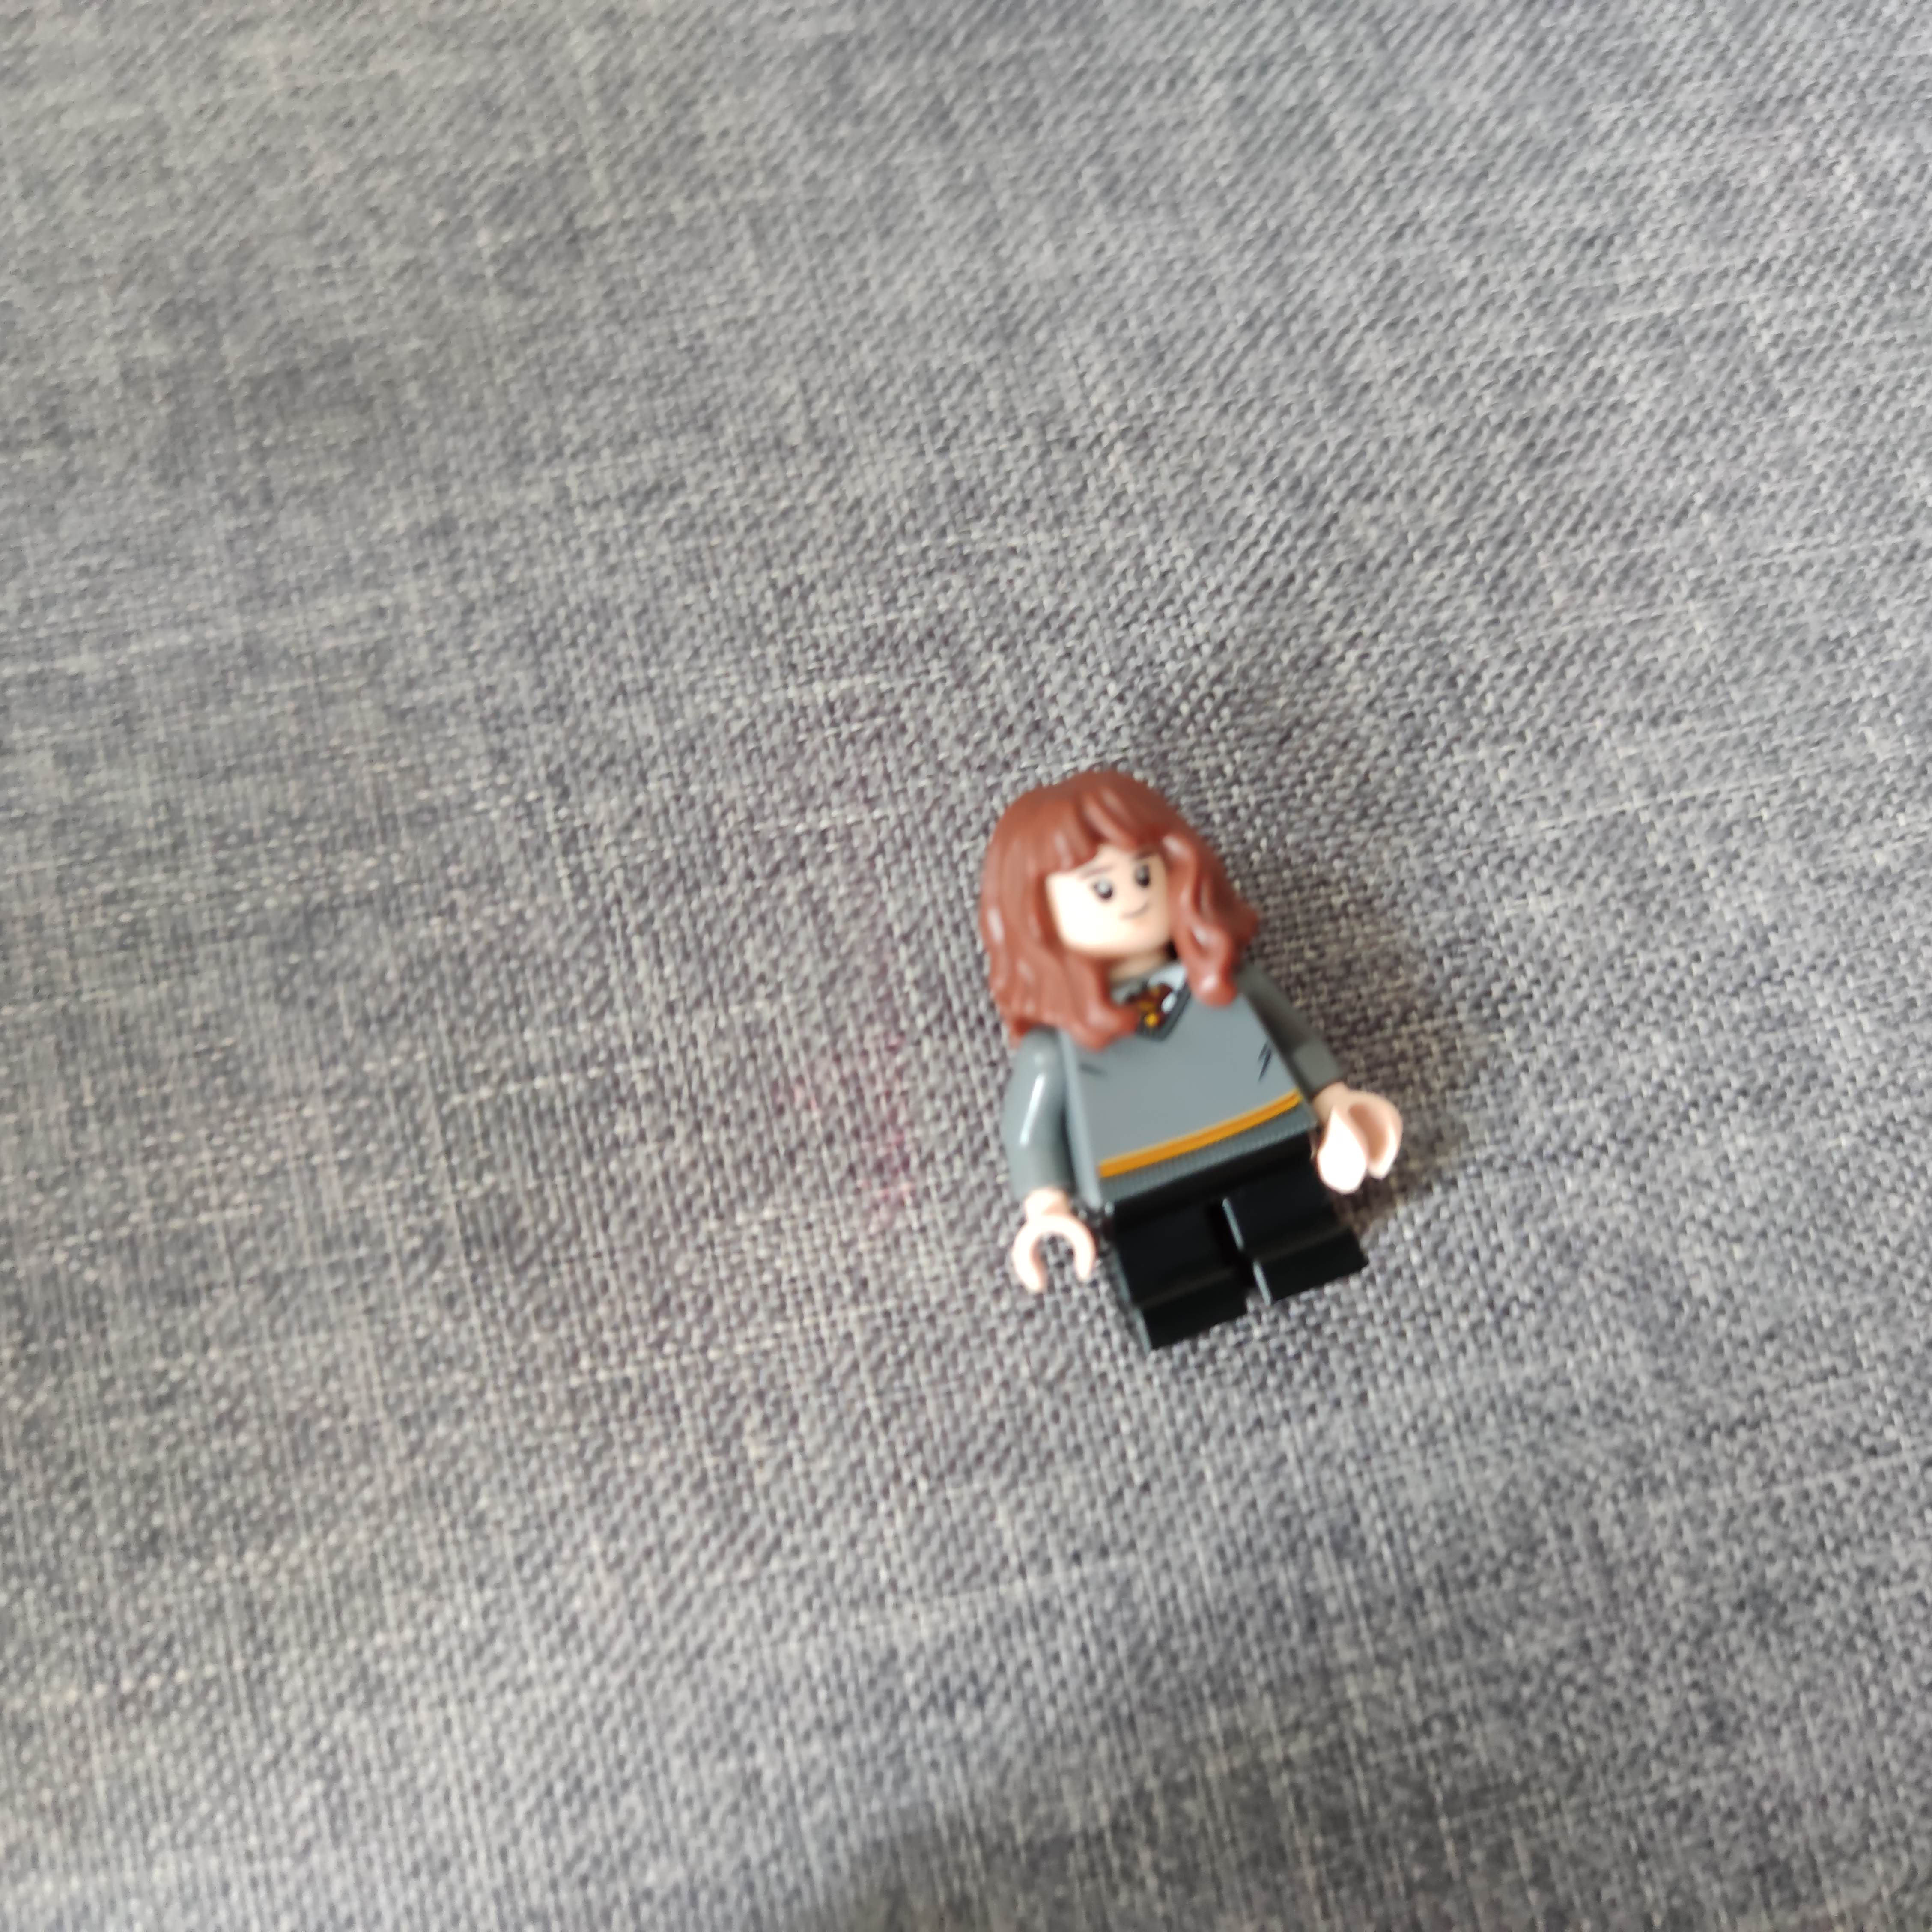lego: (962, 778, 1428, 1352)
